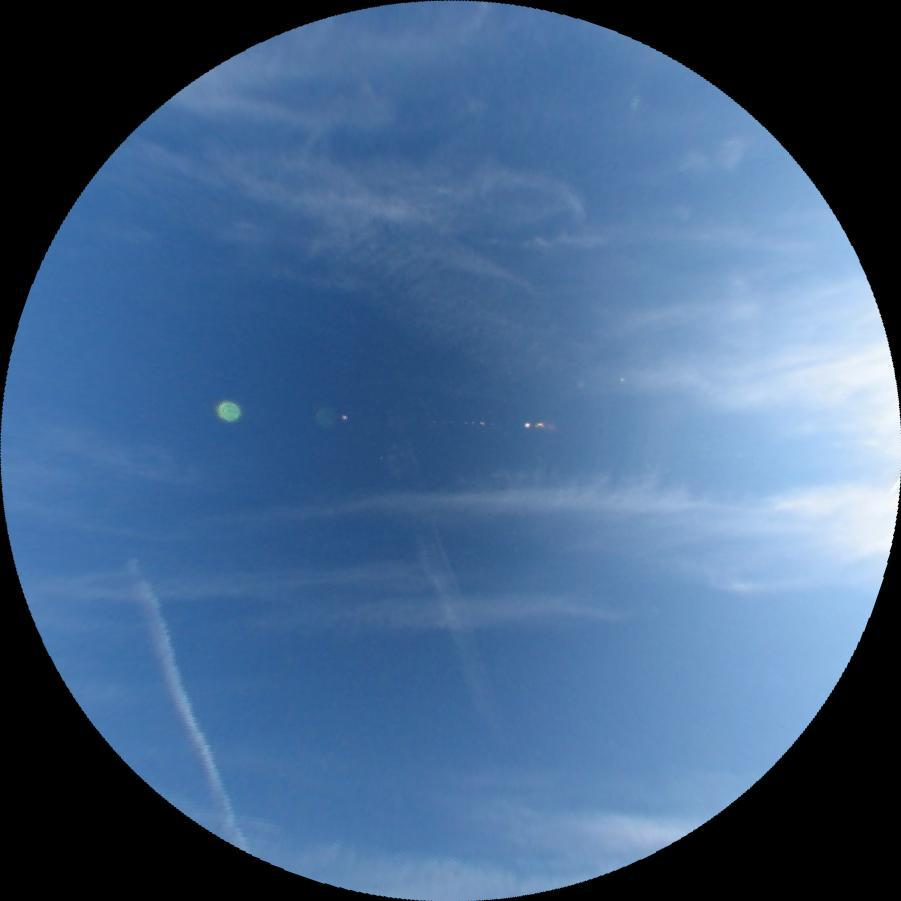contrail veryold: (371, 414, 504, 728), (122, 554, 248, 854)
